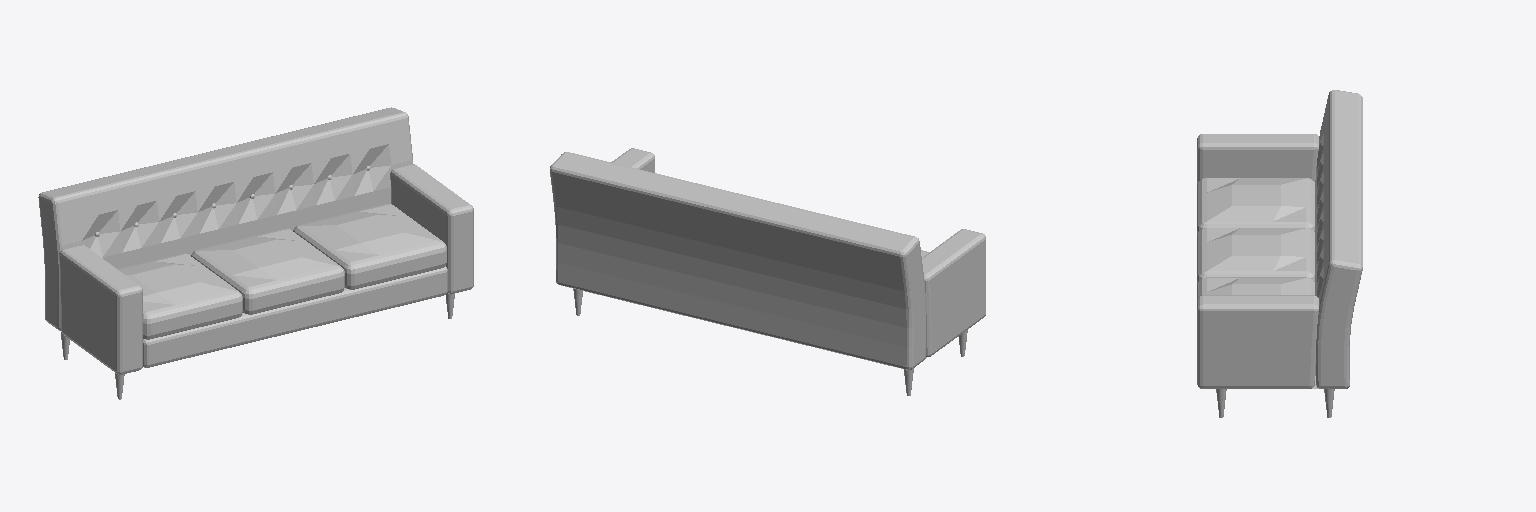
File: Couch.obj
3 renders of one model, left to right at view 1: azimuth 30°, elevation 25°; view 2: azimuth 150°, elevation 25°; view 3: azimuth 270°, elevation 25°, orthographic.
Parts seen in each view (by area): view 1: Couch_Couch_Couch; view 2: Couch_Couch_Couch; view 3: Couch_Couch_Couch.
Boxes of the visible parts, x1=… form: Couch_Couch_Couch: x1=38, y1=107, x2=473, y2=399; Couch_Couch_Couch: x1=550, y1=148, x2=985, y2=395; Couch_Couch_Couch: x1=1197, y1=90, x2=1362, y2=417.
Bounding box in the file's own units: 3.87 × 1.67 × 1.55.